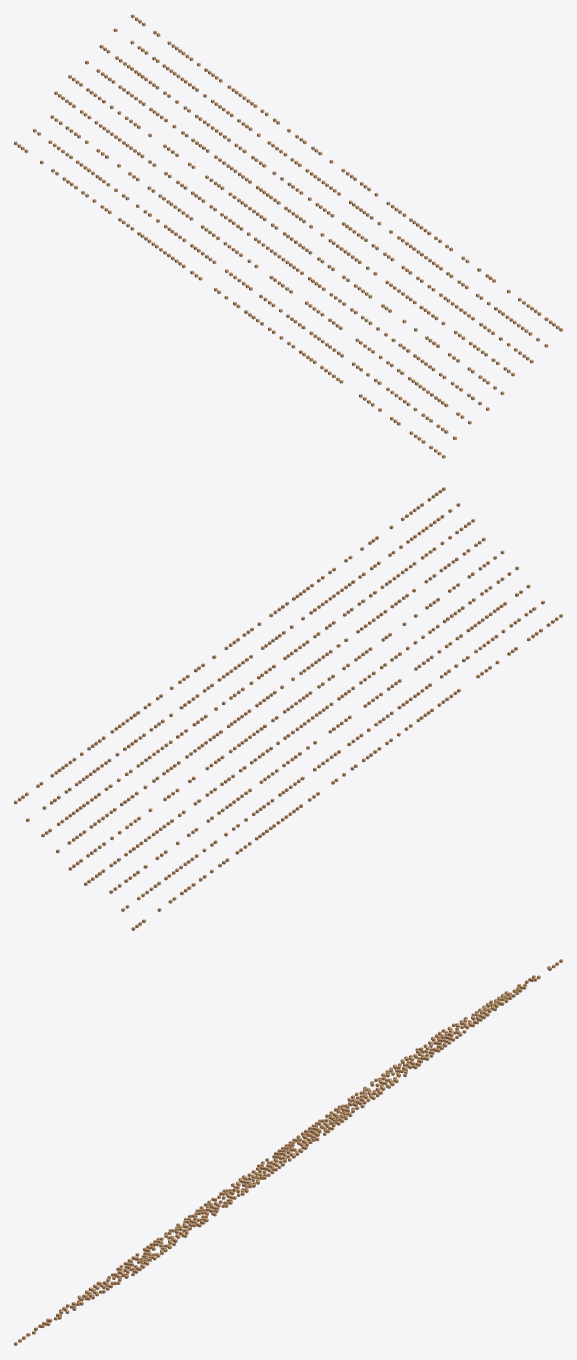
File: CrowdHeadsW.fbx
3 views of the same model, one above another, from view 1: azimuth 30°, elevation 25°; view 2: azimuth 150°, elevation 25°; view 3: azimuth 330°, elevation 25° (orthographic).
Parts seen in each view (by area): view 1: HeadW0.001; view 2: HeadW0.001; view 3: HeadW0.001.
Boxes of the visible parts, x1,y1,x2,y2 form: HeadW0.001: [14, 14, 562, 458]; HeadW0.001: [14, 487, 562, 930]; HeadW0.001: [14, 959, 562, 1345].
Size of the model in its own units: 4080 by 3280 by 25610.
